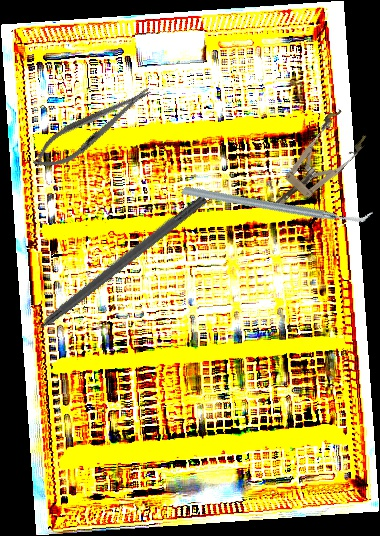Chopper: (180, 118, 374, 288)
Hook Surgical: (14, 192, 209, 348)
Needle Holder: (25, 76, 160, 180)
Speculum: (256, 106, 372, 224)
